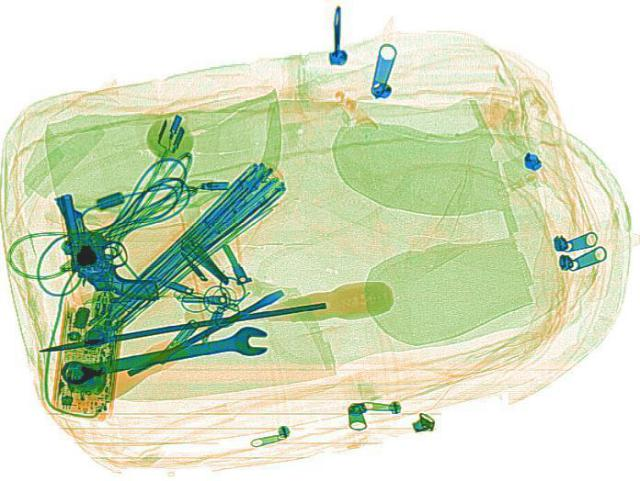Gun: (54, 184, 158, 307)
Wrench: (54, 323, 270, 388)
